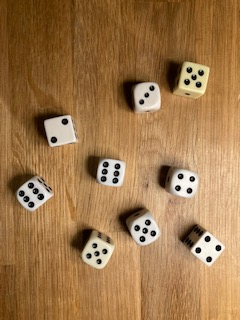five: (173, 61, 210, 99), (126, 208, 162, 247), (80, 230, 115, 270)
four: (183, 224, 226, 269), (165, 167, 200, 199)
six: (15, 175, 53, 212), (96, 156, 126, 188)
three: (132, 81, 162, 113)
two: (43, 114, 78, 148)
